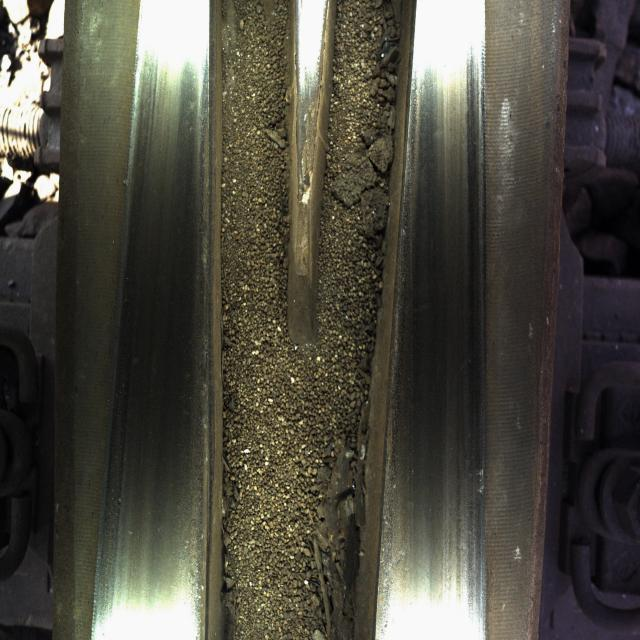break: (408, 72, 488, 634), (135, 82, 203, 588)
